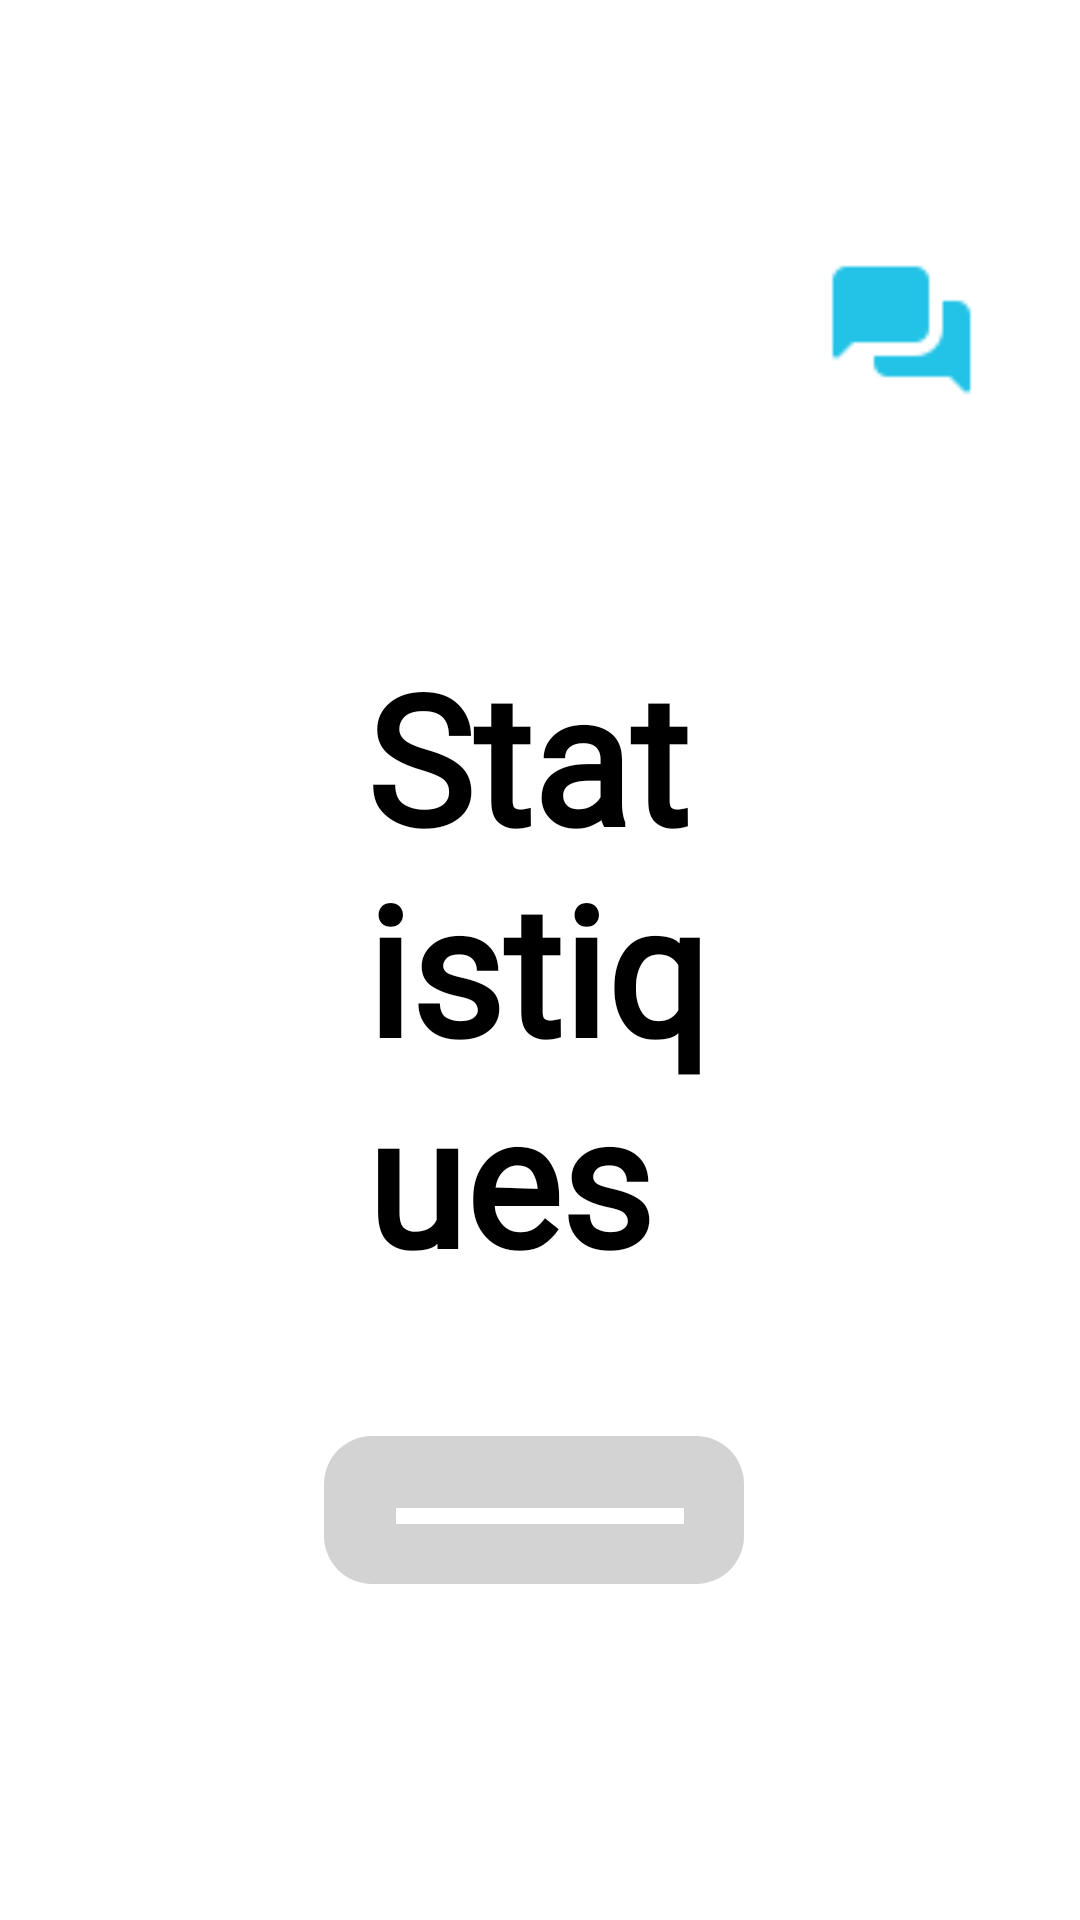

Icon click points for this 1080w x 1920h phone screenshot, format (x,y):
use chat: (901,330)
